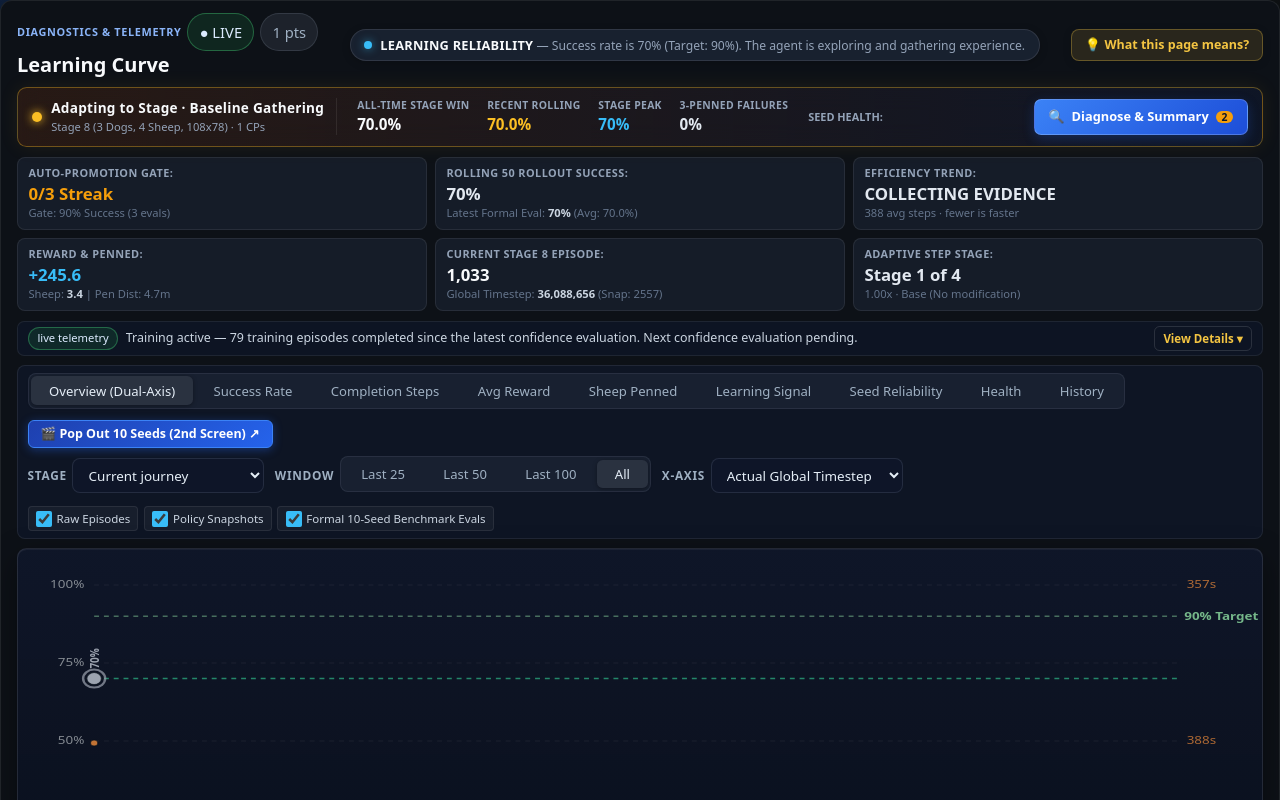
Test: DiagnosticsPanel Live Insights & Telemetry › 4. Live success rate uses SQLite telemetry and does not display 0/1032 on missing fields
Click the button with aria-label "expand details" at {"x": 1203, "y": 338}, box [1154,326,1252,350]
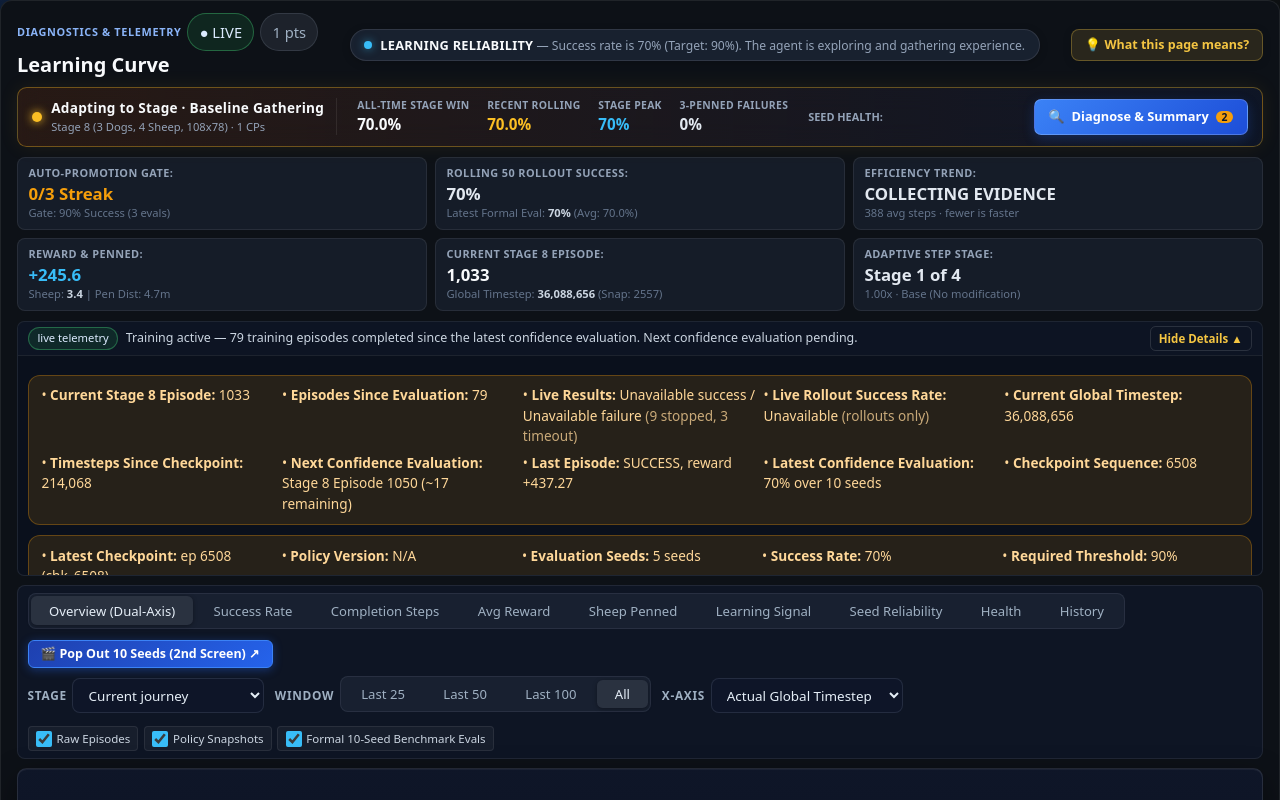
Check: the text "Live Rollout Success Rate:" is shown, box [772,385,946,404]
Check: the text "Unavailable" is shown, box [620,385,694,404]
